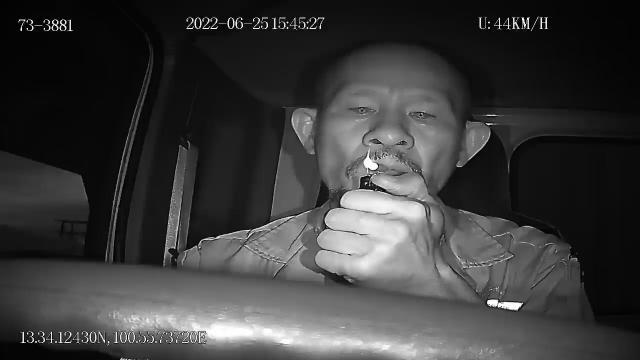SafeDriving: (338, 92, 382, 124), (401, 98, 444, 128)
Smoking: (368, 162, 392, 172)
